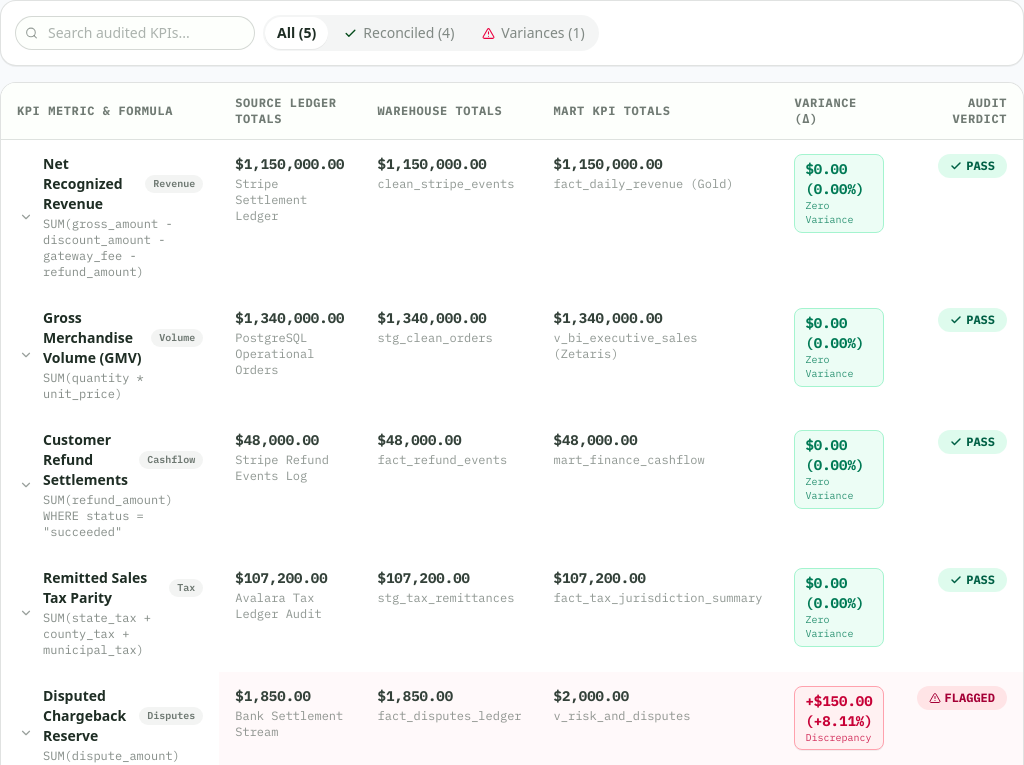
it: Independent Audit Center (UC-10) › ReconciliationTable: Financial & Accounting Audit › filters items by Reconciled and Variances pills
Step 1. Click the button "Variances (1)" → click(533, 33), box [470,17,597,49]
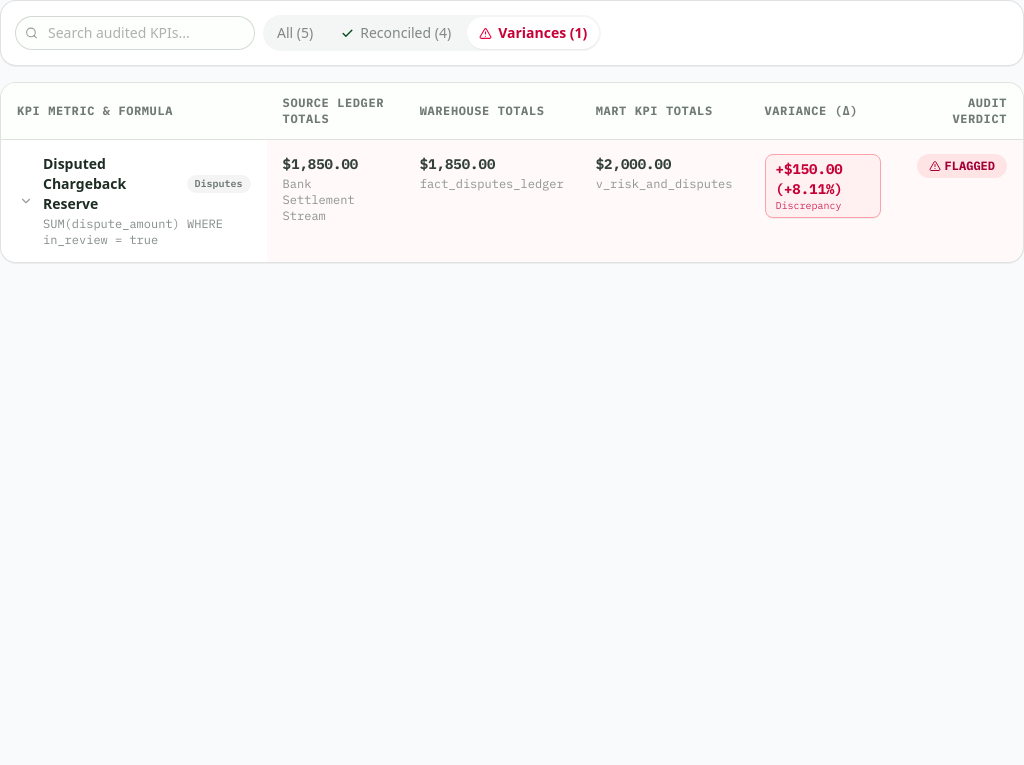
Expected: the text "Disputed Chargeback Reserve" is shown, [43,154,126,213]
Expected: the text "Net Recognized Revenue" is gone
